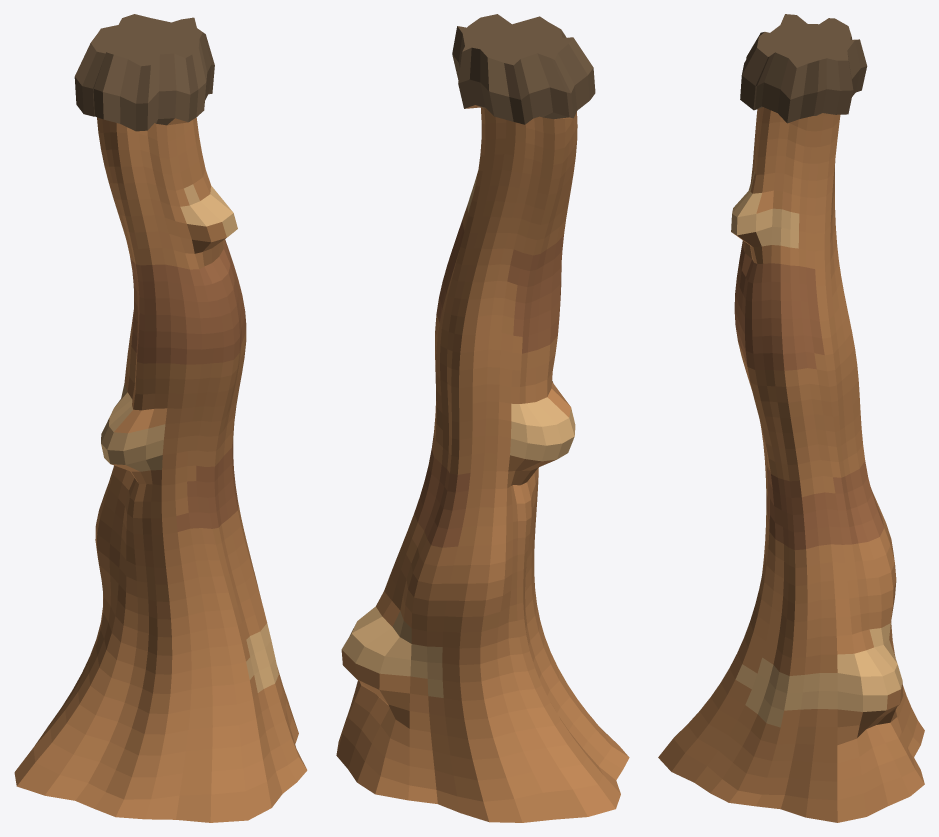
File: hoodoo.glb
The picture shows the model from 3 angles, left to right: view 1: azimuth 30°, elevation 25°; view 2: azimuth 150°, elevation 25°; view 3: azimuth 270°, elevation 25°; orthographic projection. The views are drawn at different scales.
Parts seen in each view (by area): view 1: irregular_tapered_erosional_pillar_with_three_interrupted_un; view 2: irregular_tapered_erosional_pillar_with_three_interrupted_un; view 3: irregular_tapered_erosional_pillar_with_three_interrupted_un.
Part boxes in pixels (x1,y1,x2,y2): irregular_tapered_erosional_pillar_with_three_interrupted_un: (14, 14, 307, 822); irregular_tapered_erosional_pillar_with_three_interrupted_un: (336, 14, 629, 822); irregular_tapered_erosional_pillar_with_three_interrupted_un: (658, 14, 924, 822).
Size of the model in its own units: 3.18 by 8.06 by 2.74.
